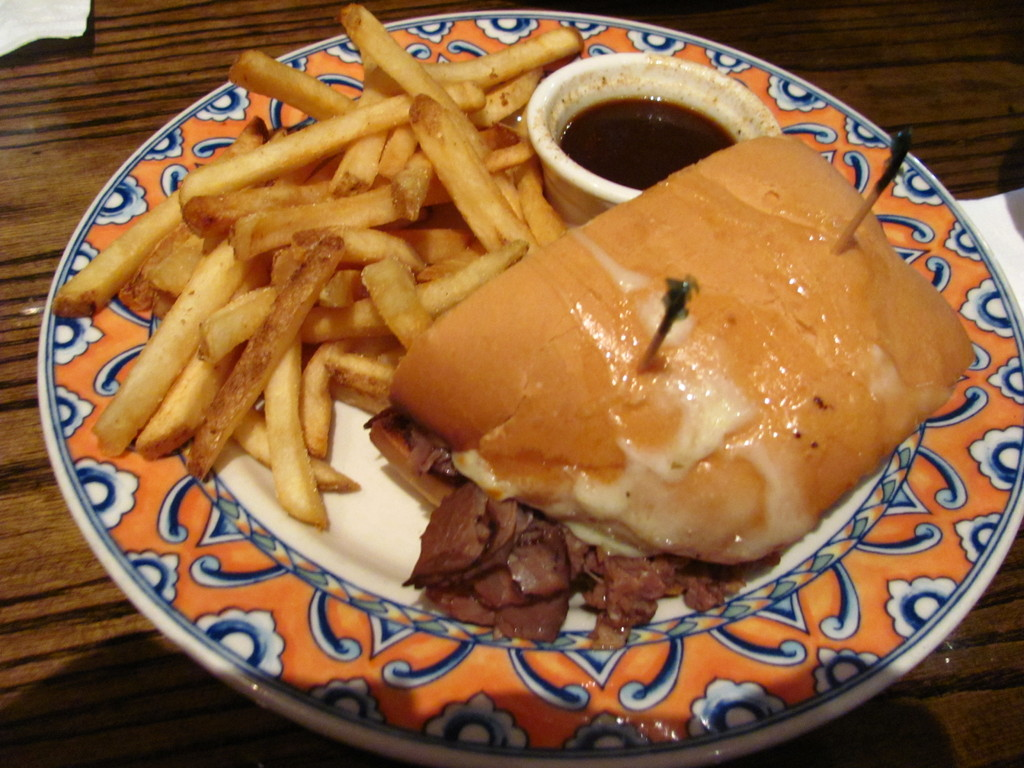French fries: (90, 27, 575, 518)
